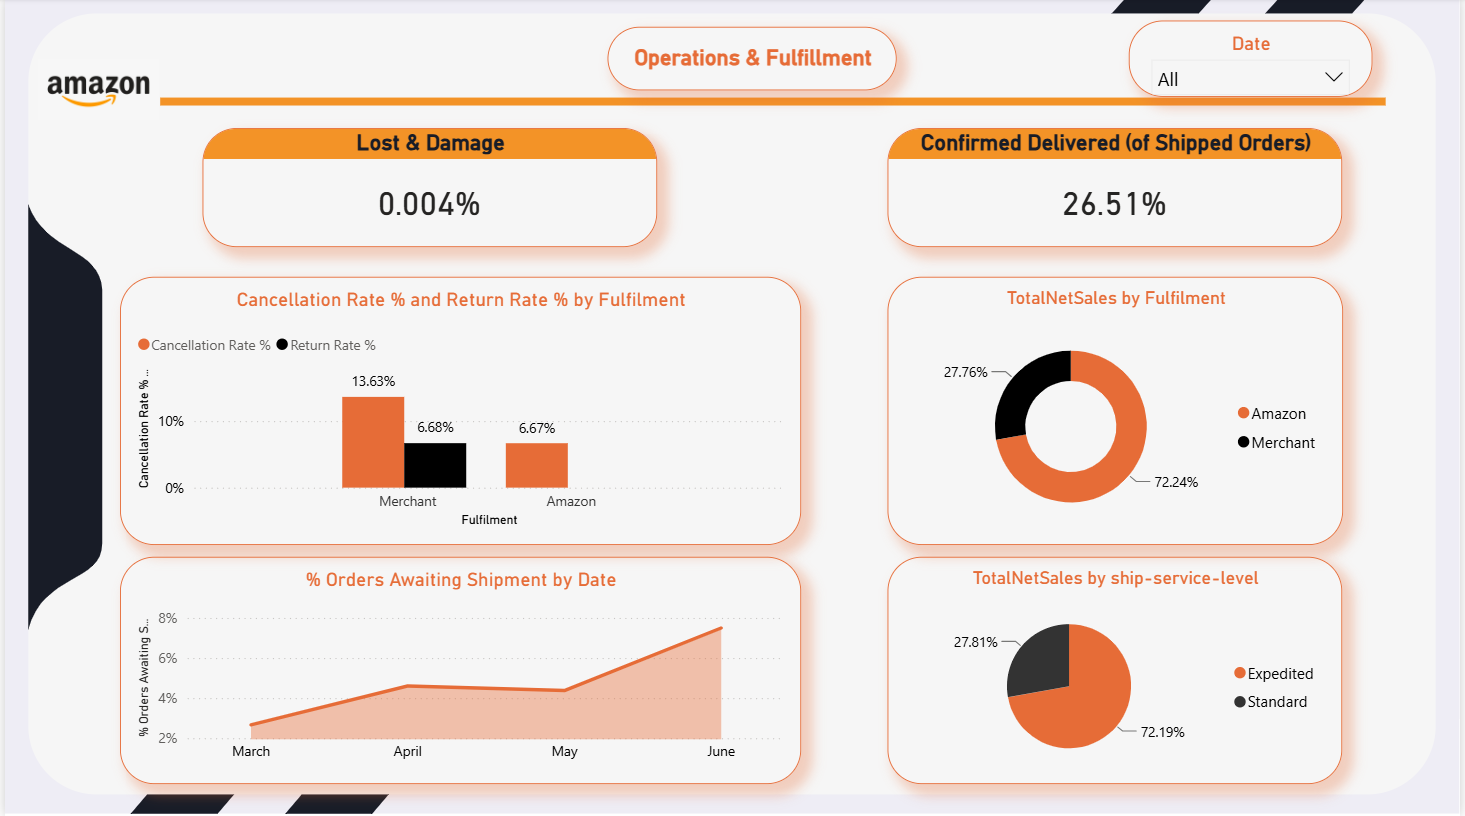

Layout of this report page (visuals, bound fields, positions):
{"tool":"powerbi","page":{"name":"Operations & Fulfillment","canvas":[1280,720],"ordinal":2},"visuals":[{"type":"image","box":[28.6,46.4,107.1,67.9],"z":0},{"type":"card","title":"Lost & Damage","fields":{"Values":["Sales.Lost & Damaged Rate %"]},"box":[173.8,114.3,400,104.8],"z":1000},{"type":"card","title":"Confirmed Delivered (of Shipped Orders)","fields":{"Values":["Sales.Delivery Confirmation Rate %"]},"box":[776.2,114.3,400,104.8],"z":2000},{"type":"donutChart","fields":{"Category":["Amazon_Sale_Report.Fulfilment"],"Y":["Sales.TotalNetSales"]},"box":[776.2,245.2,401.2,235.7],"z":3000},{"type":"clusteredColumnChart","fields":{"Y":["Sales.Cancellation Rate %","Sales.Return Rate %"],"Category":["Amazon_Sale_Report.Fulfilment"]},"box":[101.2,245.2,598.8,235.7],"z":4000},{"type":"lineChart","title":"% Orders Awaiting Shipment by Date","fields":{"Category":["Date.Month Name","Date.Date"],"Y":["Sales.% Orders Awaiting Shipment"]},"box":[101.2,491.7,598.8,200],"z":5000},{"type":"pieChart","fields":{"Category":["Amazon_Sale_Report.ship-service-level"],"Y":["Sales.TotalNetSales"]},"box":[776.2,491.7,400,200],"z":6000},{"type":"textbox","title":"Operations & Fulfillment","box":[529.8,25,254.8,56],"z":7000}]}

Visuals, with their boxes in screenshot pixels (x1, y1, x2, y2), scaled from the page's 1280x720 canvas onto the 1465x816 screenshot:
image: detection(33, 53, 155, 130)
"Lost & Damage" card: detection(199, 130, 657, 248)
"Confirmed Delivered (of Shipped Orders)" card: detection(888, 130, 1346, 248)
donutChart - Amazon_Sale_Report.Fulfilment x Sales.TotalNetSales: detection(888, 278, 1348, 545)
clusteredColumnChart - Sales.Cancellation Rate % x Sales.Return Rate %: detection(116, 278, 801, 545)
"% Orders Awaiting Shipment by Date" lineChart: detection(116, 557, 801, 784)
pieChart - Amazon_Sale_Report.ship-service-level x Sales.TotalNetSales: detection(888, 557, 1346, 784)
"Operations & Fulfillment" textbox: detection(606, 28, 898, 92)
